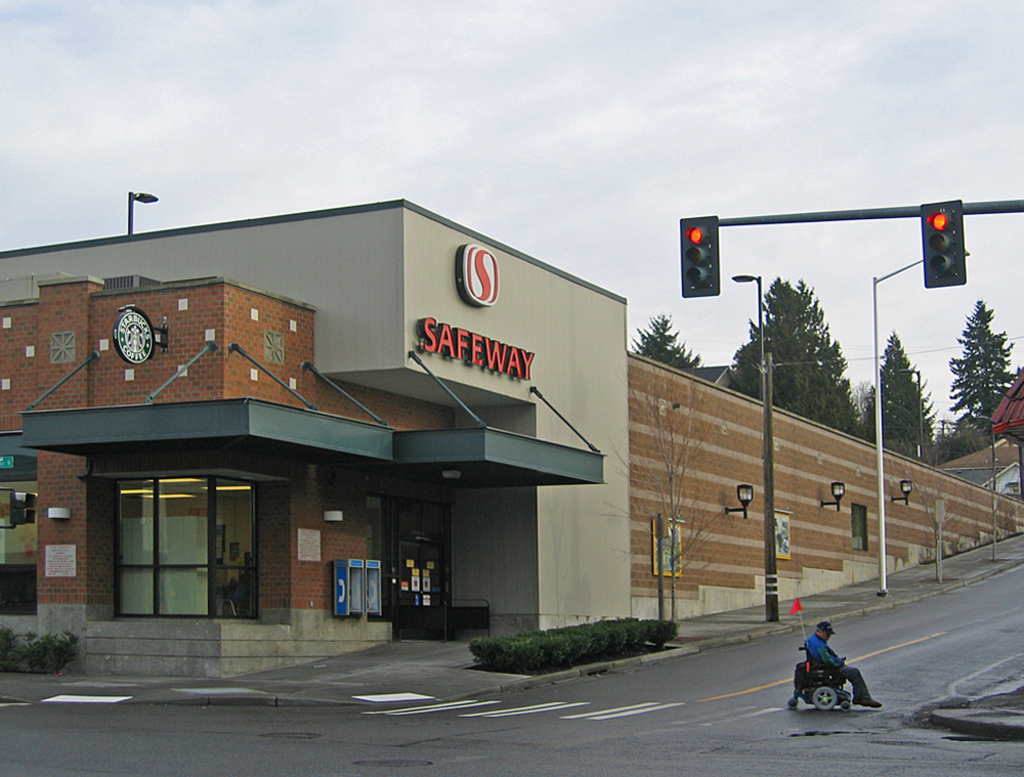red_light: (924, 205, 964, 285), (680, 215, 718, 296)
